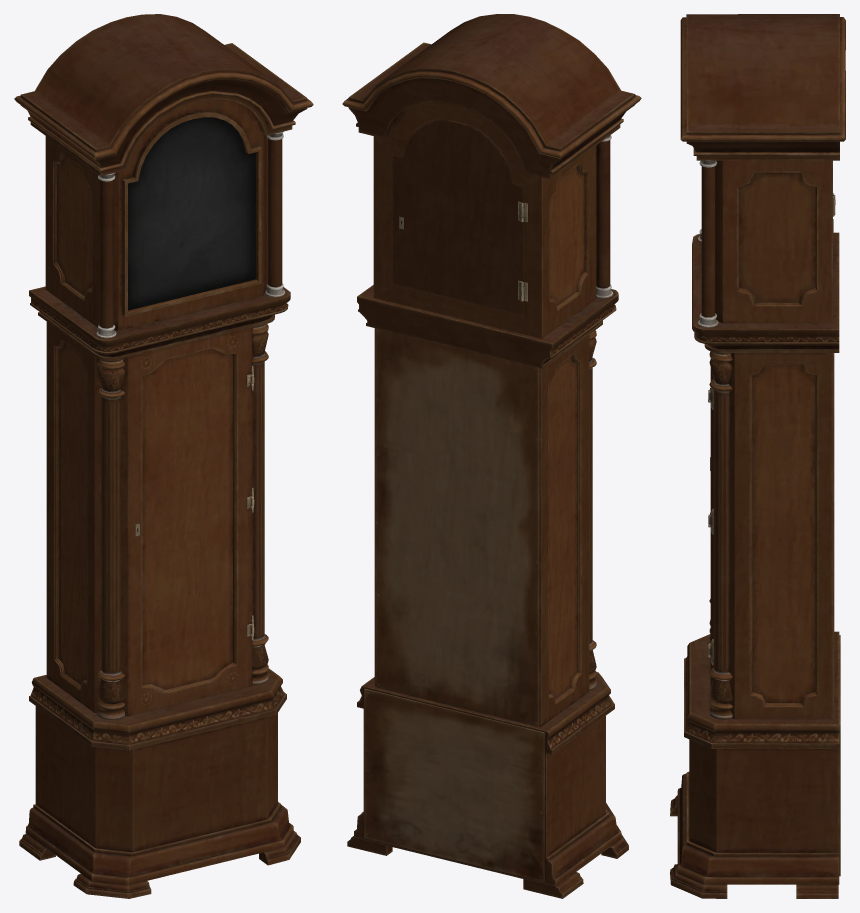
The model's file is vintage_grandfather_clock_01.glb.
3 views of the same model, side by side, from view 1: azimuth 30°, elevation 25°; view 2: azimuth 150°, elevation 25°; view 3: azimuth 270°, elevation 25° (orthographic). The views are drawn at different scales.
Parts seen in each view (by area): view 1: vintage_grandfather_clock_01_Body; view 2: vintage_grandfather_clock_01_Body; view 3: vintage_grandfather_clock_01_Body.
Part boxes in pixels (<box>): vintage_grandfather_clock_01_Body: <box>14,14,313,898</box>; vintage_grandfather_clock_01_Body: <box>342,14,641,898</box>; vintage_grandfather_clock_01_Body: <box>670,14,845,898</box>.
Bounding box in the file's own units: 0.6256 × 2.19 × 0.4266.
Materials: 2 (2 with a texture image).
